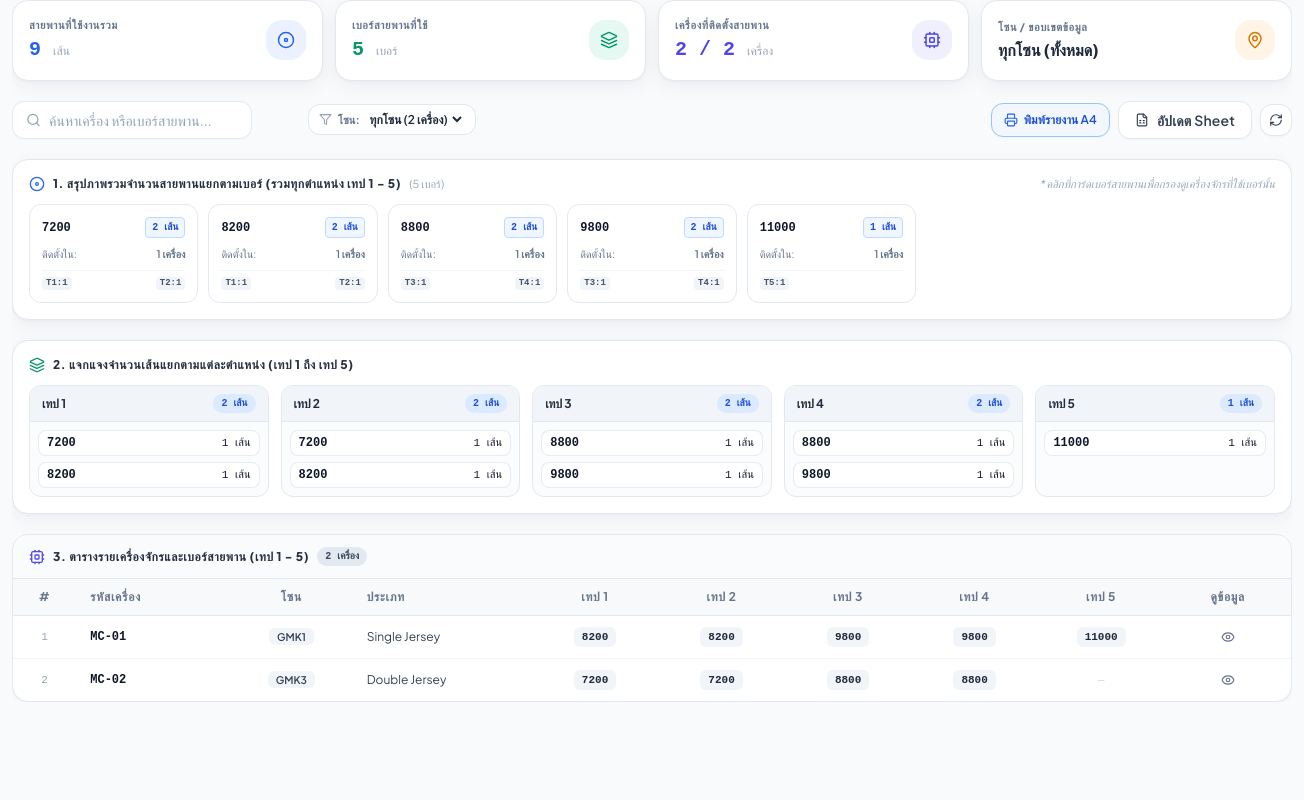
Test: YarnBeltsView › filters machines when clicking a belt number card
Note: Click on 7200 card (which belongs only to MC-02)
Click the button "7200 2 เส้น ติดตั้งใน: 1 เครื่อง T1:1 T2:1" at (114, 254), box [29,204,198,303]
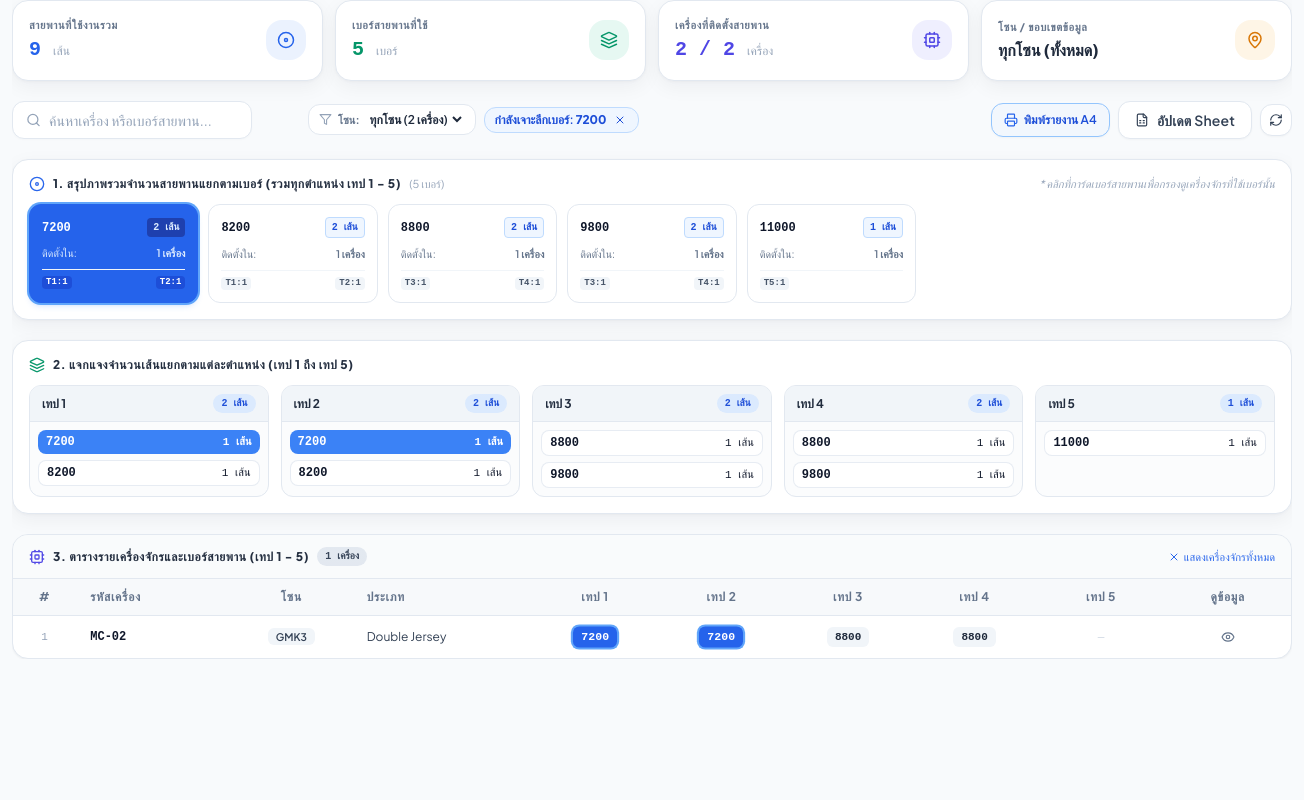
Expected: the text "MC-02" is shown, [76,616,228,658]
Result: the text "กำลังเจาะลึกเบอร์: 7200" is shown at [495,112,606,128]
Result: the text "MC-01" is gone
Note: Clear filter
Click the button titled "ล้างตัวเลือกเบอร์สายพาน" at (620, 120), box [612,112,628,128]
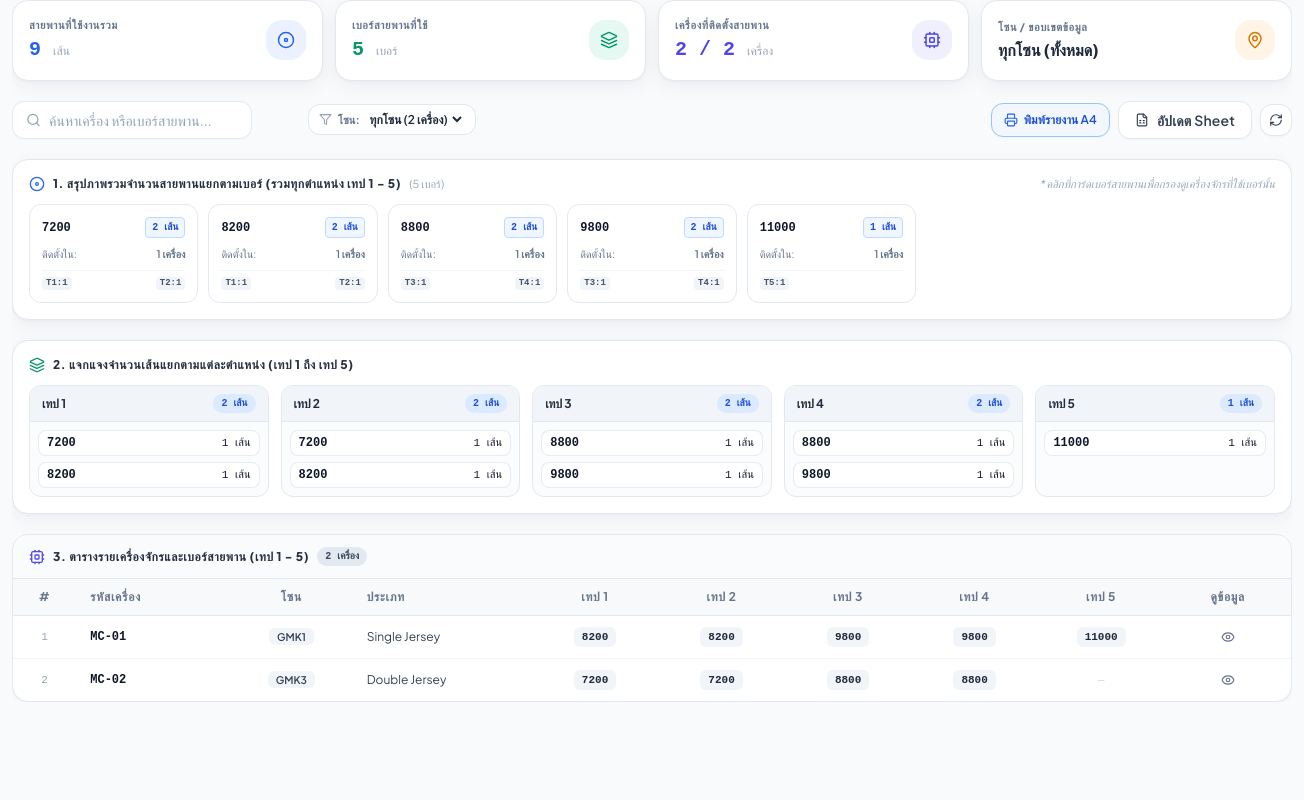
Result: the text "MC-01" is shown at [76,616,228,659]
